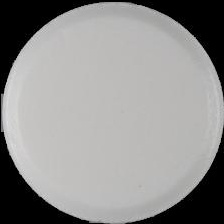54868-1462: (0, 0, 224, 224)
